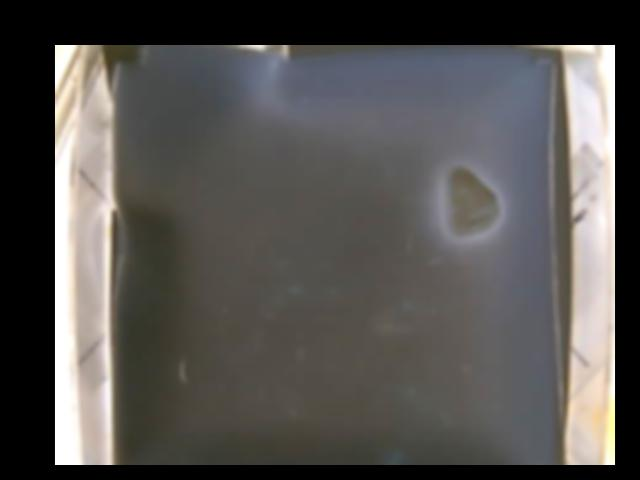Pebble: (442, 163, 501, 238)
